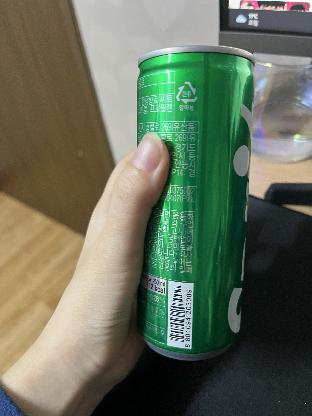Can: (134, 46, 254, 360)
